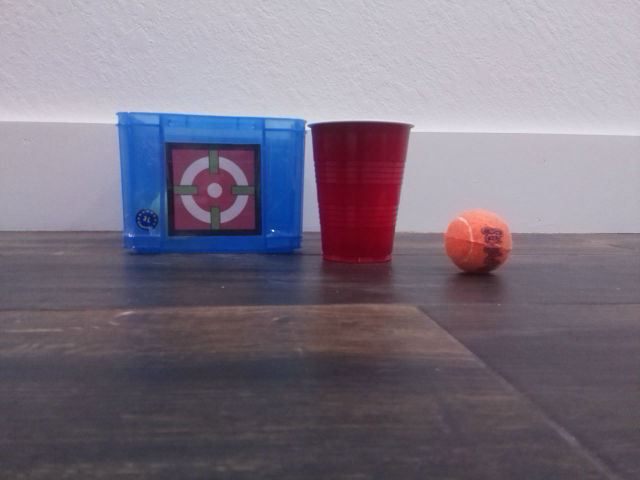drop-bin: (164, 141, 263, 236)
orange-ball: (444, 208, 513, 275)
